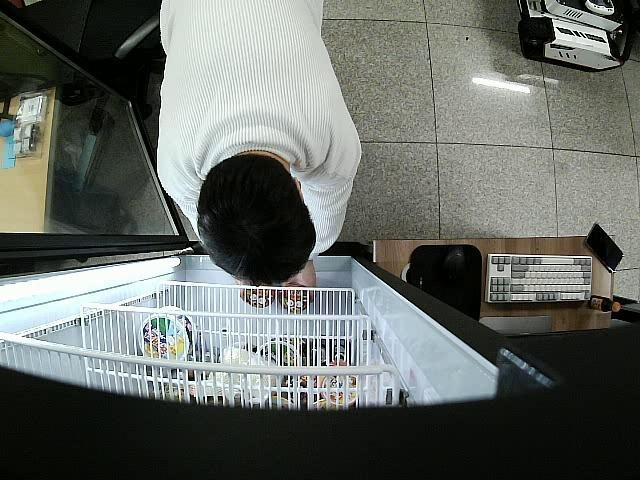06_nuguri_S: (279, 284, 310, 312)
